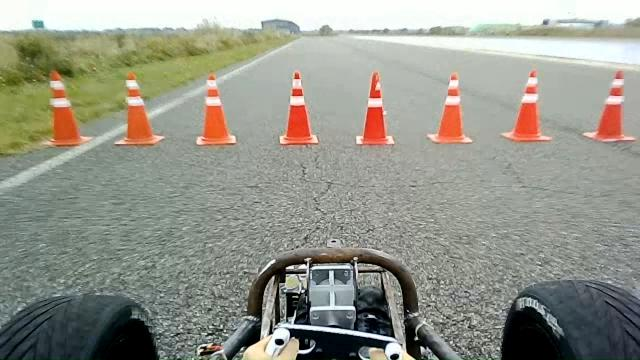red cone: (582, 69, 636, 142), (500, 69, 552, 142), (114, 71, 164, 146), (45, 69, 93, 146), (355, 71, 395, 145)
yellow cone: (426, 72, 473, 144), (282, 70, 322, 145), (196, 74, 236, 145)
